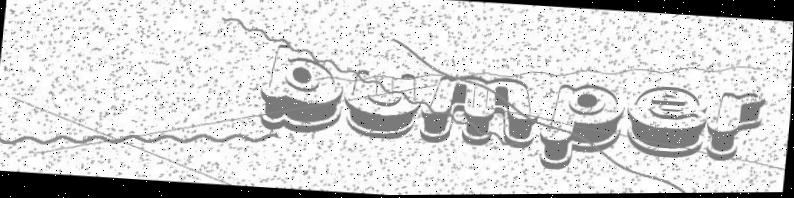b: (255, 41, 350, 138)
e: (623, 83, 710, 162)
m: (417, 73, 542, 155)
p: (536, 81, 626, 176)
r: (704, 90, 770, 166)
u: (342, 69, 422, 145)
